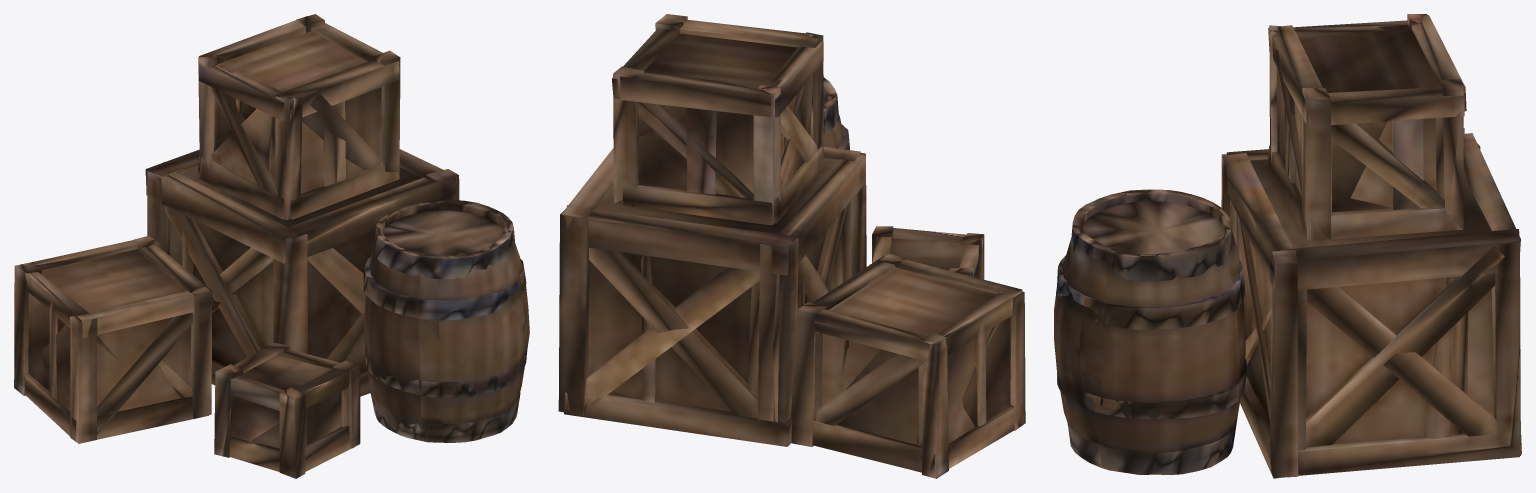
The model's file is kit_crates.glb.
The picture shows the model from 3 angles, left to right: view 1: azimuth 30°, elevation 25°; view 2: azimuth 150°, elevation 25°; view 3: azimuth 270°, elevation 25°; orthographic projection. The views are drawn at different scales.
Visible parts, largest first — view 1: mesh_node; view 2: mesh_node; view 3: mesh_node.
Boxes of the visible parts, <box> form: mesh_node: <box>14,14,529,478</box>; mesh_node: <box>558,14,1025,478</box>; mesh_node: <box>1054,14,1521,478</box>.
Bounding box in the file's own units: 0.0387 × 0.03 × 0.0357.
1 material, 1 textured.
